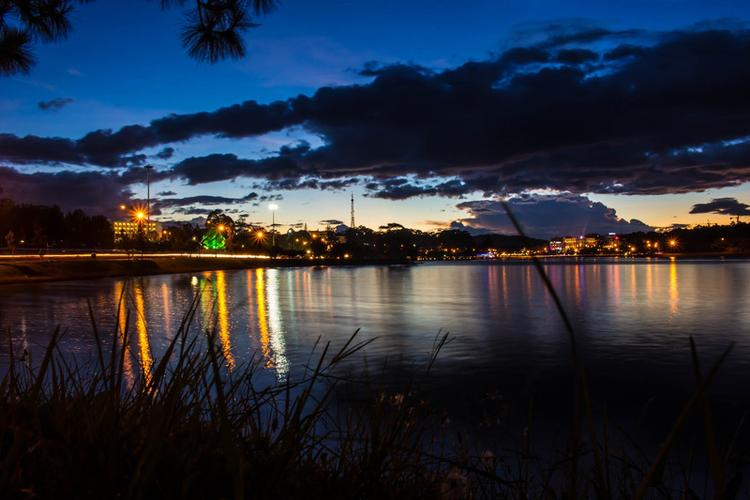sea_river: (184, 261, 730, 403)
sky_cloud: (7, 74, 749, 210)
